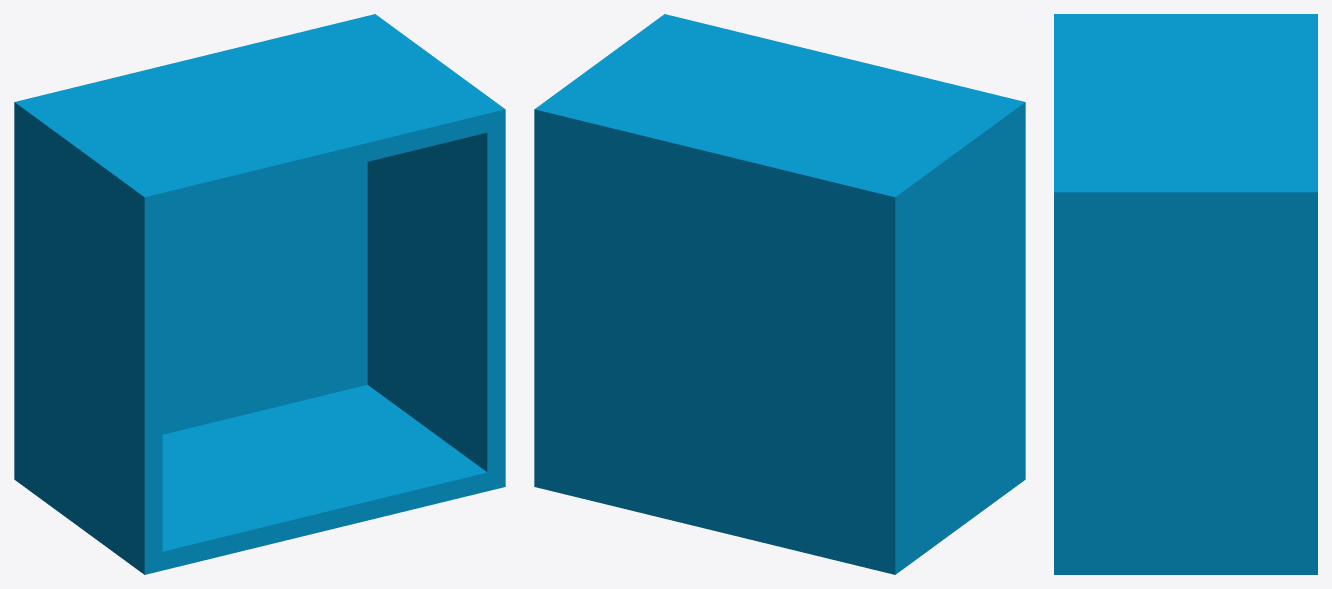
File: pensileAzzurro.obj
3 renders of one model, left to right at view 1: azimuth 30°, elevation 25°; view 2: azimuth 150°, elevation 25°; view 3: azimuth 270°, elevation 25°, orthographic.
Parts seen in each view (by area): view 1: Box44_1; view 2: Box44_1; view 3: Box44_1.
Part boxes in pixels (x1=…): Box44_1: x1=14, y1=14, x2=505, y2=574; Box44_1: x1=534, y1=14, x2=1025, y2=574; Box44_1: x1=1054, y1=14, x2=1317, y2=574.
Bounding box in the file's own units: 40 × 40 × 25.
